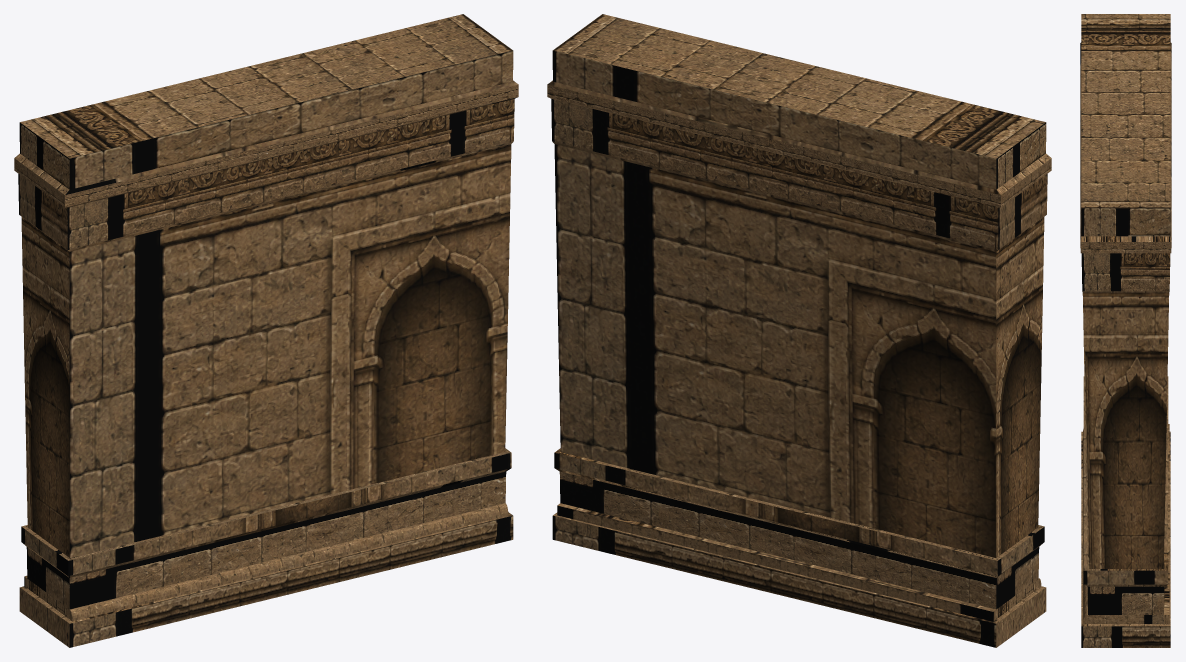
File: pplaainb walltest 2.fbx
3 renders of one model, left to right at view 1: azimuth 30°, elevation 25°; view 2: azimuth 150°, elevation 25°; view 3: azimuth 270°, elevation 25°, orthographic. The views are drawn at different scales.
Visible parts, largest first — view 1: plain wall a; view 2: plain wall a; view 3: plain wall a.
Part boxes in pixels (bbox=[...]): plain wall a: bbox=[14, 14, 518, 647]; plain wall a: bbox=[547, 14, 1051, 647]; plain wall a: bbox=[1080, 14, 1171, 647].
Size of the model in its own units: 391 by 75.78 by 403.
